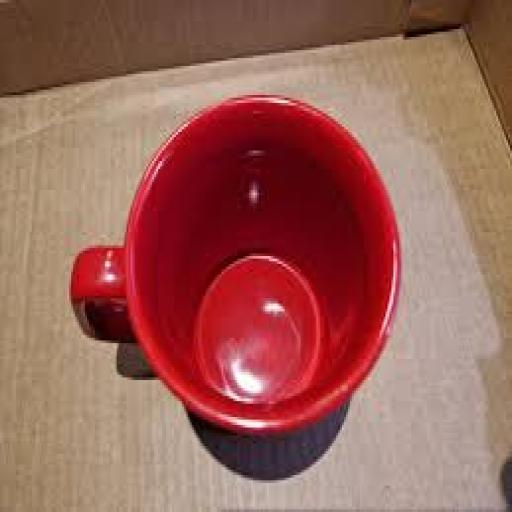red mug: (72, 96, 399, 432)
